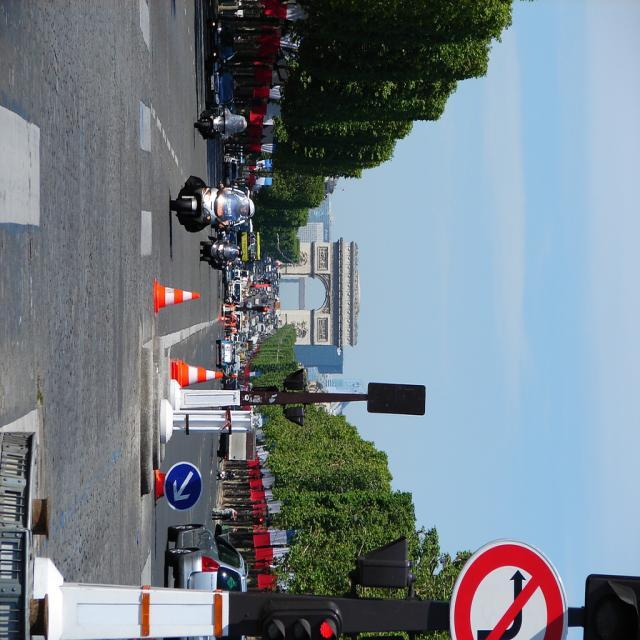obstructed_road_sign: (450, 542, 566, 640)
road_sign: (164, 460, 204, 513)
traffic light: (259, 606, 344, 640)
